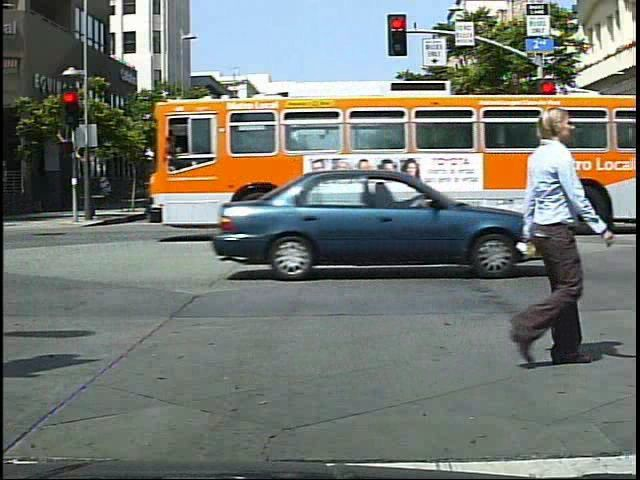person: (485, 94, 606, 397), (308, 165, 340, 228), (215, 167, 244, 233), (315, 166, 344, 230), (549, 160, 572, 211)
